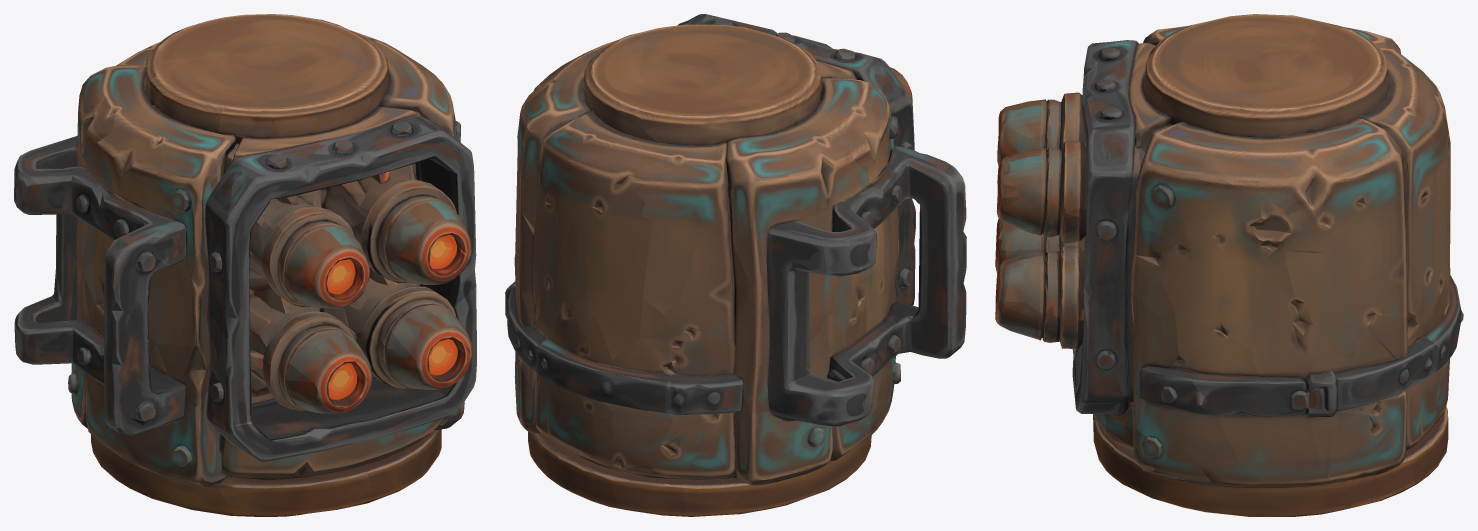
The model's file is 08_missile_rack.glb.
3 renders of one model, left to right at view 1: azimuth 30°, elevation 25°; view 2: azimuth 150°, elevation 25°; view 3: azimuth 270°, elevation 25°, orthographic. The views are drawn at different scales.
Visible parts, largest first — view 1: output_unwrapped; view 2: output_unwrapped; view 3: output_unwrapped.
Part boxes in pixels (left/top/right/bottom): output_unwrapped: left=14, top=14, right=476, bottom=516; output_unwrapped: left=505, top=14, right=966, bottom=516; output_unwrapped: left=995, top=14, right=1463, bottom=516.
Bounding box in the file's own units: 1.81 × 1.72 × 1.9.
Materials: 1 (1 with a texture image).
